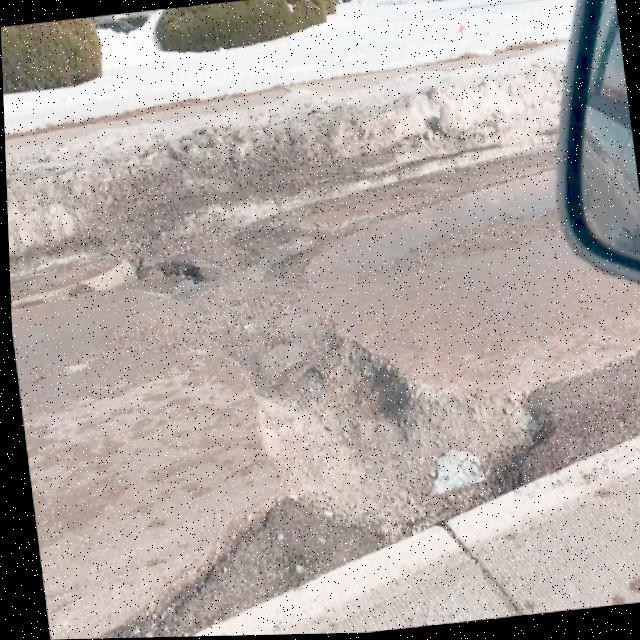pothole: (208, 315, 428, 506), (115, 241, 212, 303)
